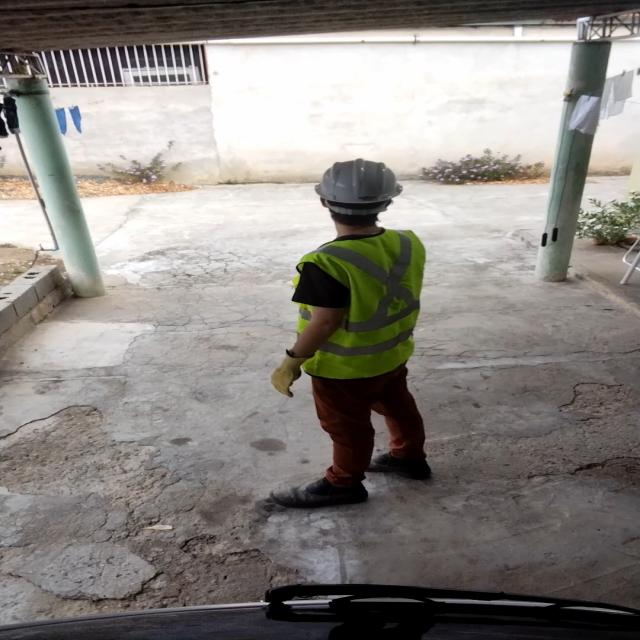glove: (268, 347, 320, 398)
helmet: (308, 155, 409, 219)
pants: (302, 369, 433, 473)
vest: (289, 228, 431, 374)
